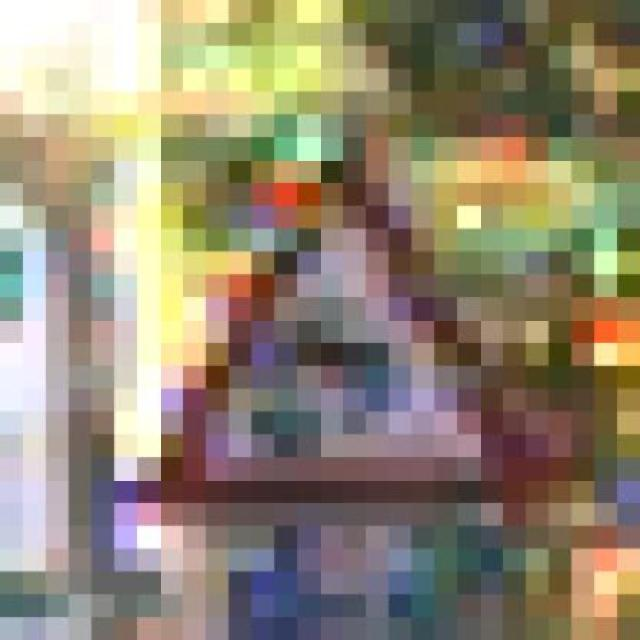Slippery Road Ahead: (114, 114, 572, 526)
